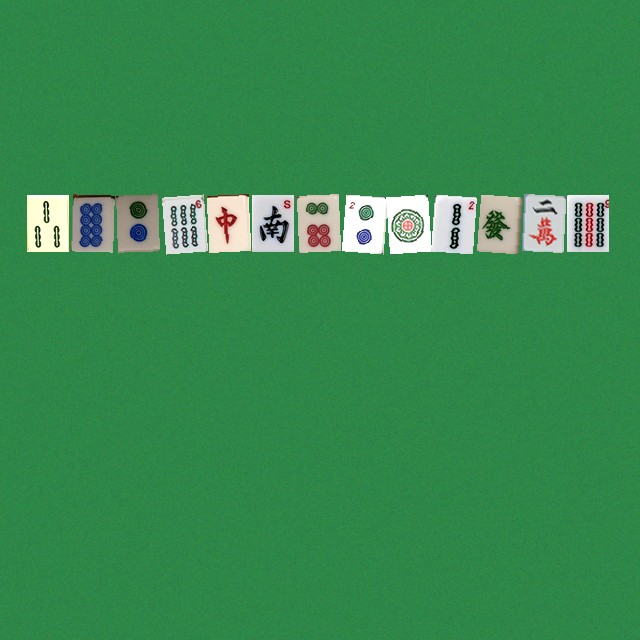tile: (26, 194, 68, 251), (71, 194, 113, 251), (116, 194, 158, 251), (161, 194, 203, 251), (206, 194, 248, 251), (251, 194, 293, 251), (296, 194, 338, 251), (341, 194, 383, 251), (386, 194, 428, 251), (431, 194, 473, 251), (476, 194, 518, 251), (521, 194, 563, 251), (566, 194, 608, 251)
